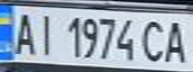1: (60, 12, 84, 57)
4: (115, 15, 142, 62)
7: (97, 15, 118, 61)
9: (78, 13, 100, 60)
A: (160, 17, 193, 64), (9, 8, 39, 56)
C: (139, 16, 172, 64)
I: (30, 10, 60, 56)
